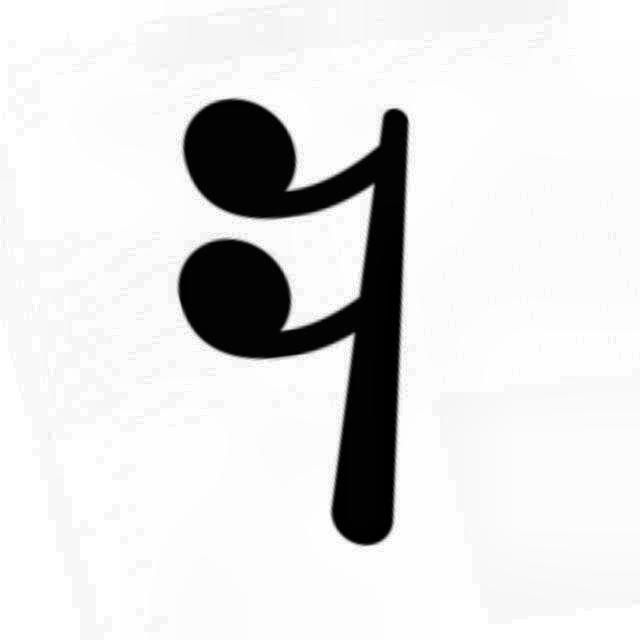Eighth-rest: (168, 80, 446, 562)
